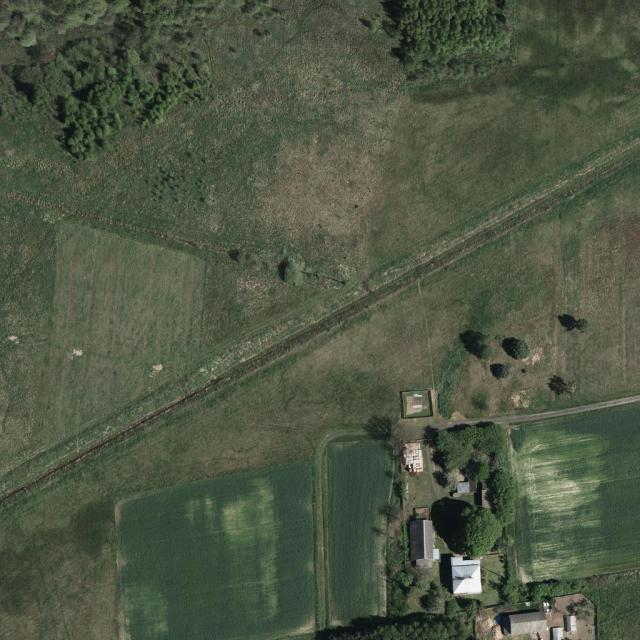agricultural_land: (116, 423, 404, 640)
building: (497, 605, 579, 640), (451, 554, 482, 595), (409, 519, 435, 561), (399, 388, 434, 419), (413, 547, 444, 573), (402, 442, 424, 472), (412, 507, 430, 520)
greenland: (431, 423, 519, 552), (386, 553, 519, 620), (394, 473, 436, 511), (394, 515, 410, 565)
